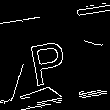P_N: (30, 30, 75, 86)
